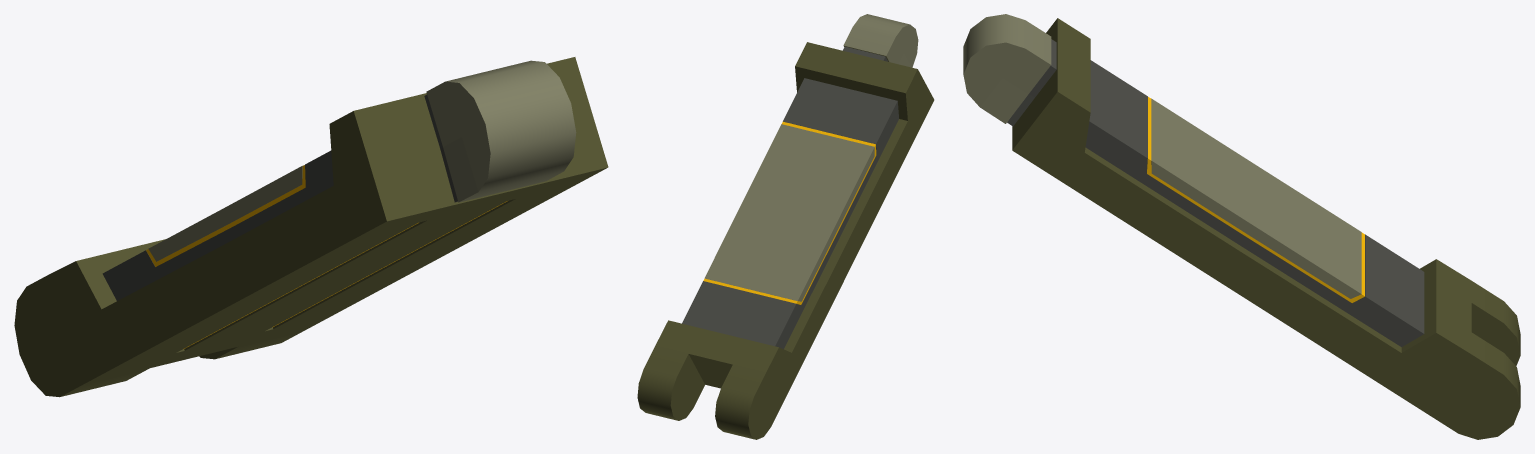
The model's file is Bot_L_LegMid.fbx.
The picture shows the model from 3 angles, left to right: view 1: azimuth 30°, elevation 25°; view 2: azimuth 150°, elevation 25°; view 3: azimuth 270°, elevation 25°; orthographic projection. The views are drawn at different scales.
Parts seen in each view (by area): view 1: L_LegMid; view 2: L_LegMid; view 3: L_LegMid.
Part boxes in pixels (left/top/right/bottom): L_LegMid: left=14, top=57, right=608, bottom=397; L_LegMid: left=637, top=14, right=934, bottom=439; L_LegMid: left=963, top=14, right=1520, bottom=439.
Size of the model in its own units: 1140 by 2701 by 3638.
